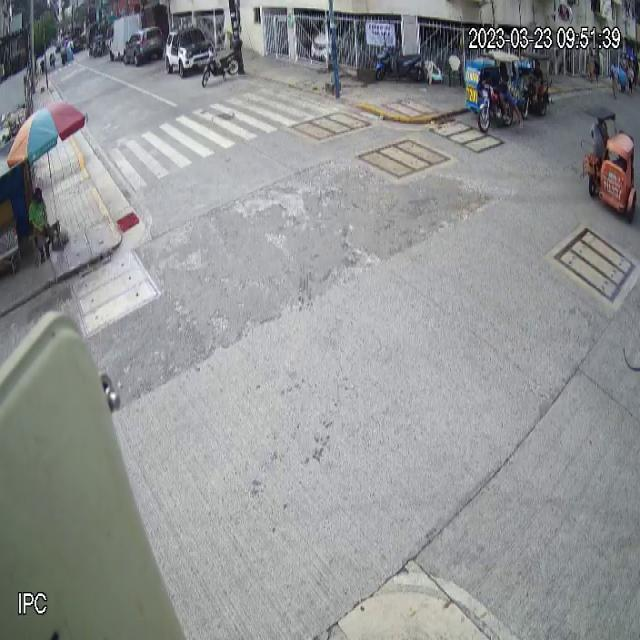Motorcycle: (375, 44, 423, 82)
Tricycle: (580, 104, 638, 223), (465, 51, 519, 133)
